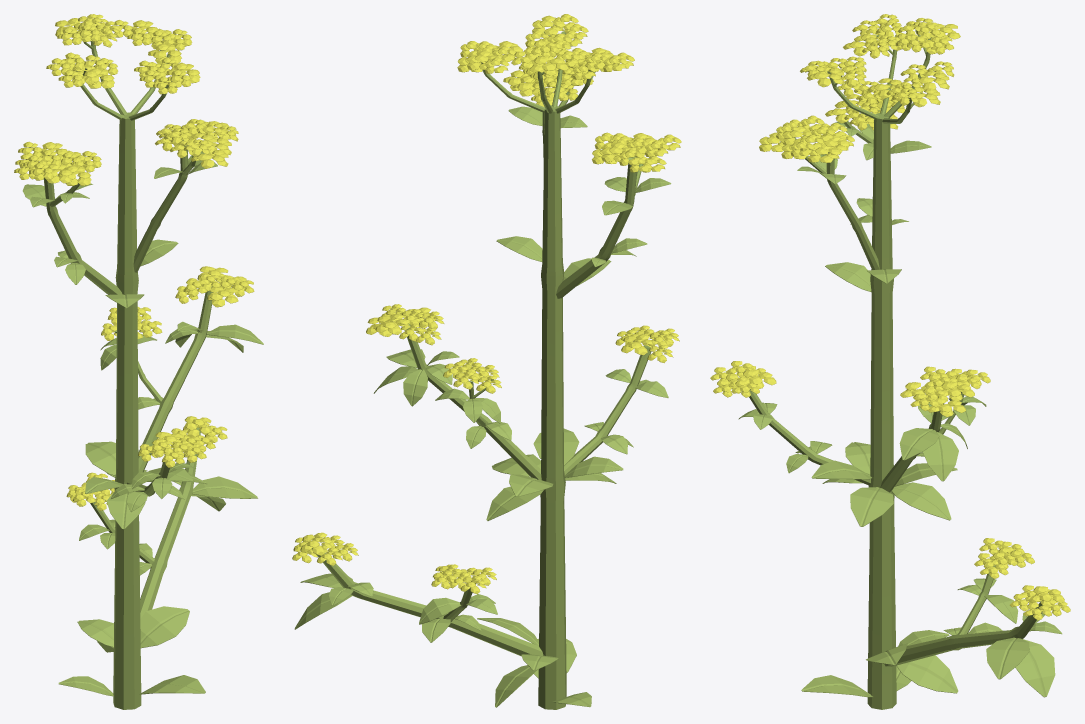
Rendered from full_wildparsnip_1.fbx.
3 views of the same model, side by side, from view 1: azimuth 30°, elevation 25°; view 2: azimuth 150°, elevation 25°; view 3: azimuth 270°, elevation 25° (orthographic).
Parts seen in each view (by area): view 1: pCube50; view 2: pCube50; view 3: pCube50.
Part boxes in pixels (box(x1,y1,x2,y2)): pCube50: box(14, 14, 263, 709); pCube50: box(292, 14, 681, 709); pCube50: box(710, 14, 1070, 709).
Bounding box in the file's own units: 3.61 × 7.75 × 3.76.
